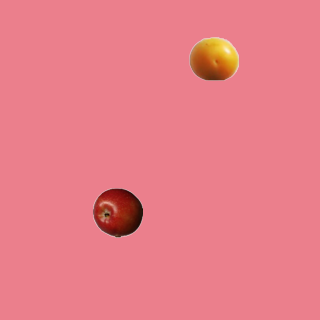Apple Braeburn: (92, 187, 142, 237)
Cherry Wax Yellow: (188, 33, 238, 83)
